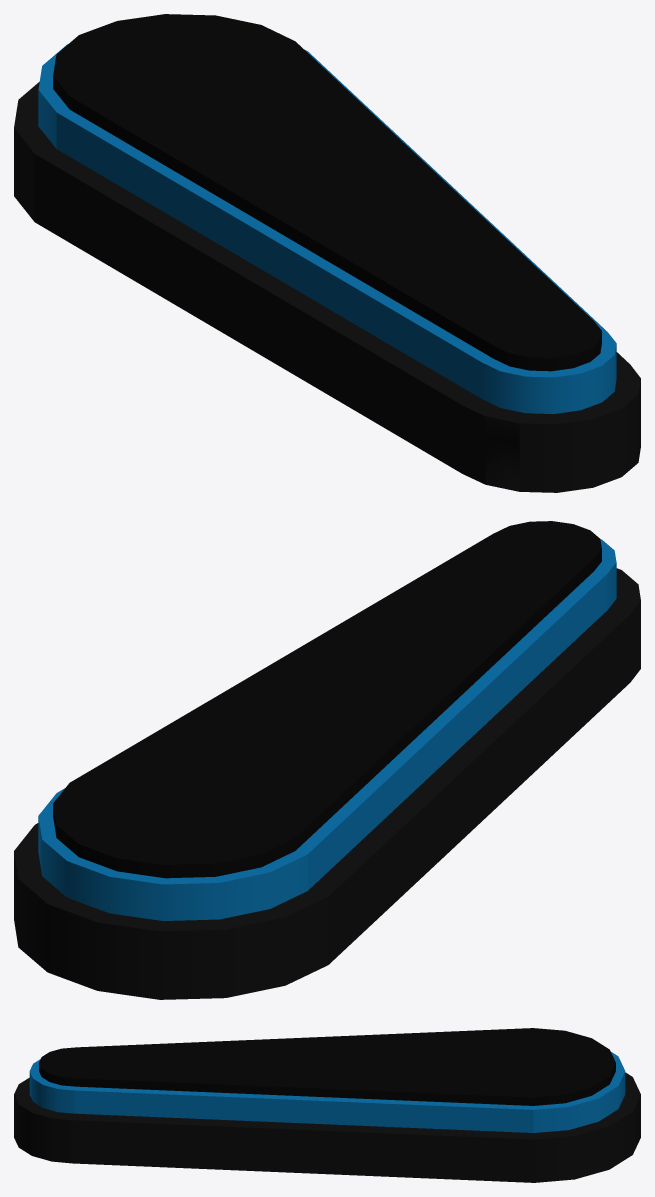
File: Pinball flipper.FBX
3 renders of one model, top to bottom at view 1: azimuth 30°, elevation 25°; view 2: azimuth 150°, elevation 25°; view 3: azimuth 270°, elevation 25°, orthographic. The views are drawn at different scales.
Visible parts, largest first — view 1: Cylinder002; view 2: Cylinder002; view 3: Cylinder002.
Part boxes in pixels (<box>): Cylinder002: <box>14,14,640,492</box>; Cylinder002: <box>14,521,640,999</box>; Cylinder002: <box>14,1028,640,1182</box>.
Size of the model in its own units: 2.34 by 0.9006 by 6.84.
